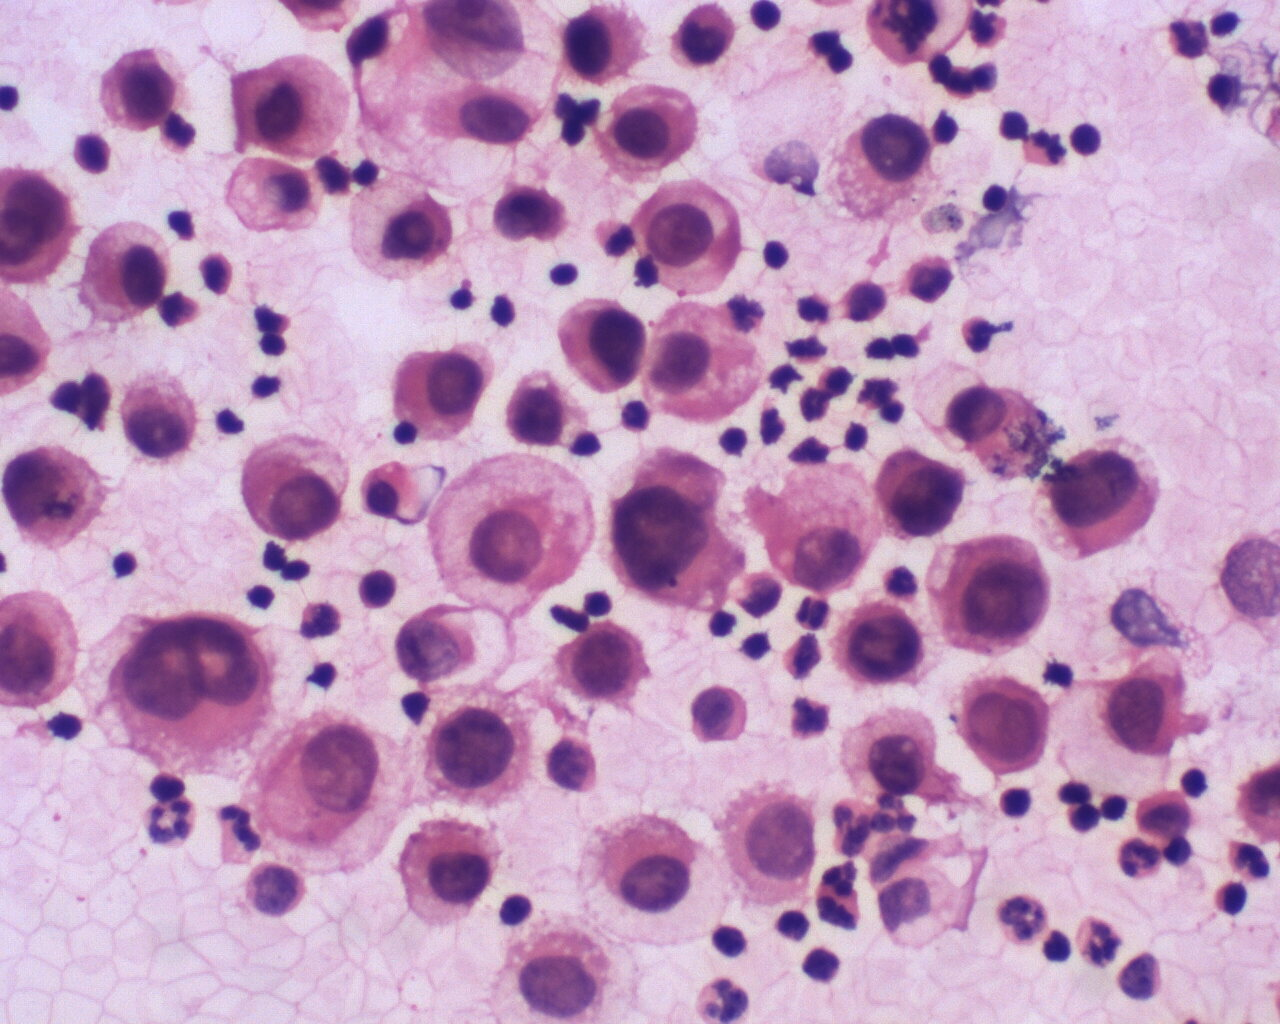ab: (111, 607, 279, 766), (605, 445, 743, 614), (629, 172, 757, 305), (1045, 428, 1161, 566), (935, 536, 1058, 653), (2, 442, 110, 563), (241, 430, 353, 544), (391, 338, 493, 444), (424, 698, 526, 802), (556, 288, 648, 401), (960, 671, 1054, 778), (876, 438, 968, 543), (1098, 664, 1196, 761), (555, 615, 653, 711), (839, 592, 934, 685), (96, 47, 177, 134), (485, 182, 573, 247)
lymph: (993, 782, 1039, 828), (496, 887, 535, 932)
meso: (601, 79, 701, 185), (84, 217, 177, 322)
neutro: (1112, 829, 1166, 887), (142, 796, 197, 852), (1163, 11, 1215, 65), (1020, 124, 1073, 172), (1228, 838, 1277, 884)
